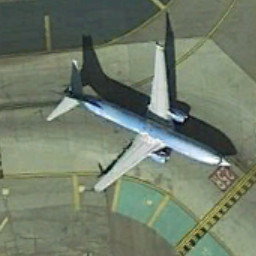Airplane: (41, 36, 236, 221)
